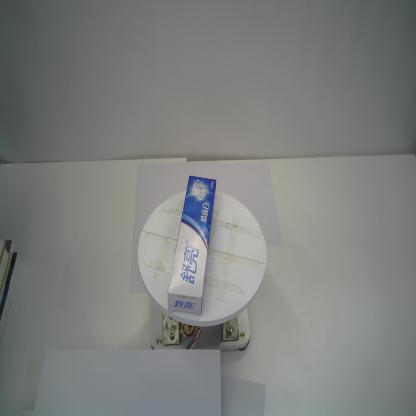Personal Hygiene: (168, 174, 217, 315)
